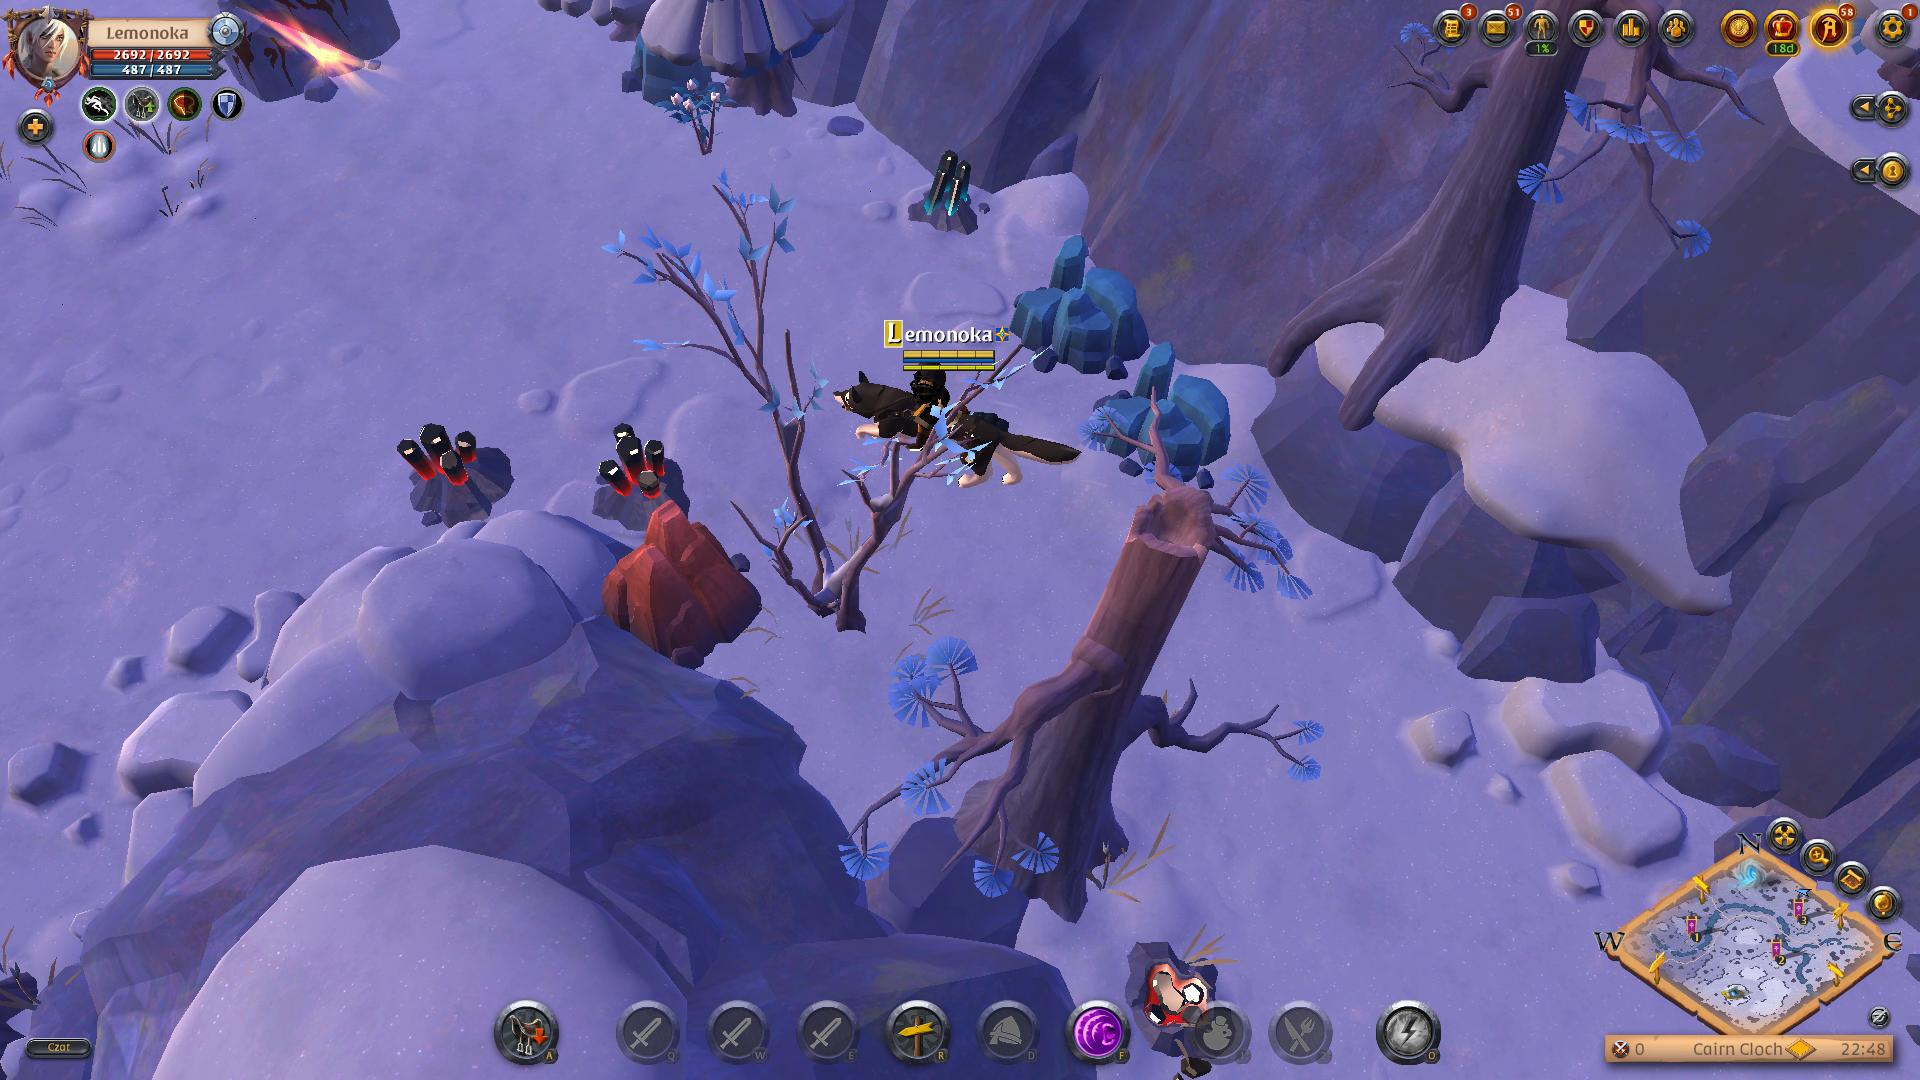fiber tier 4: (663, 74, 732, 153)
ore tier 4: (903, 150, 988, 244)
ore tier 5: (390, 419, 509, 530), (593, 419, 688, 522)
rock tier 4: (1011, 239, 1150, 388)
rock tier 5: (607, 506, 764, 674)
